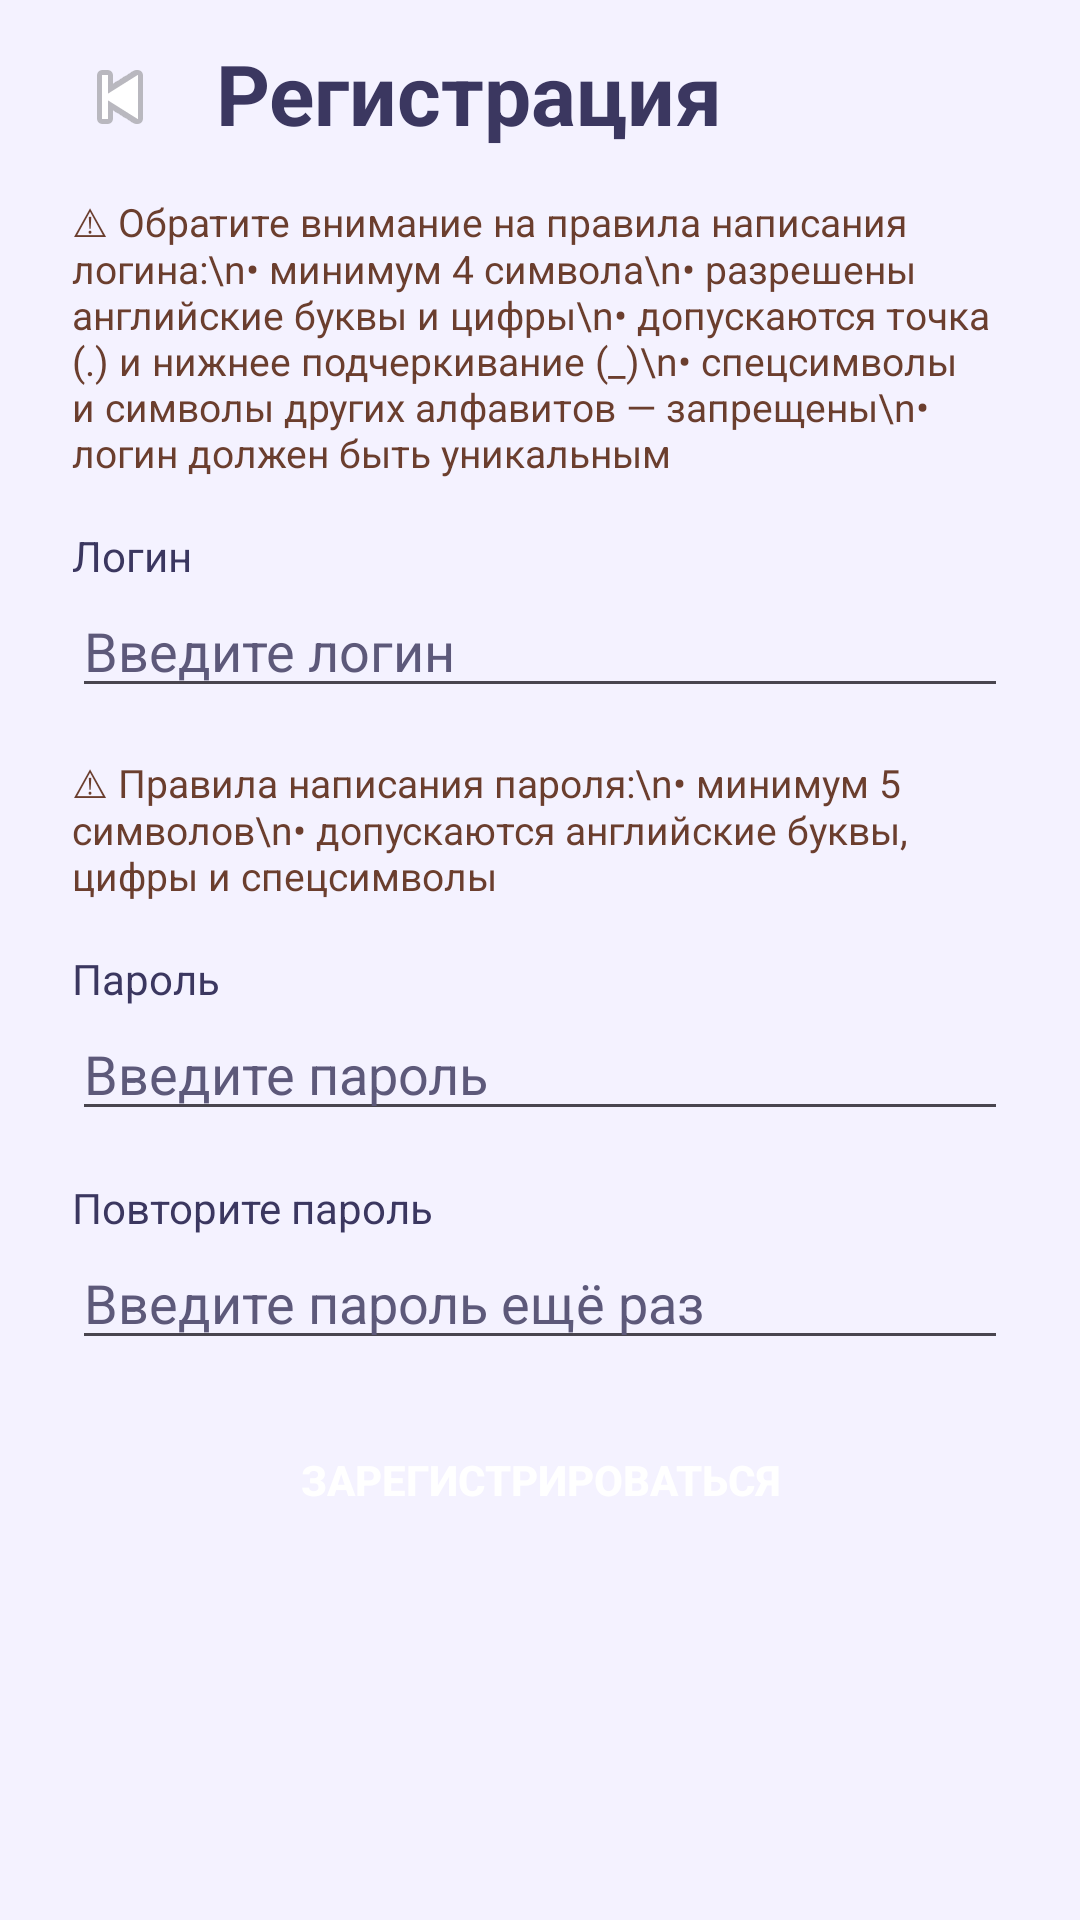

Point at icon controls on the screen. Image size 1080 × 1920, points as (x,y).
Назад: (120,97)
